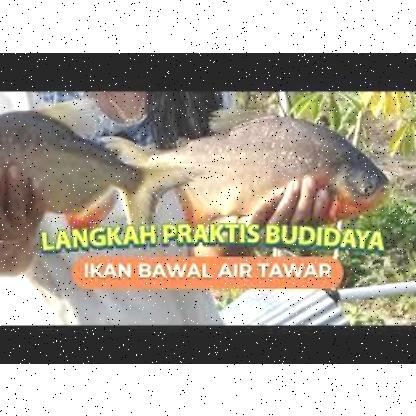ikan-pacu: (166, 119, 390, 220)
